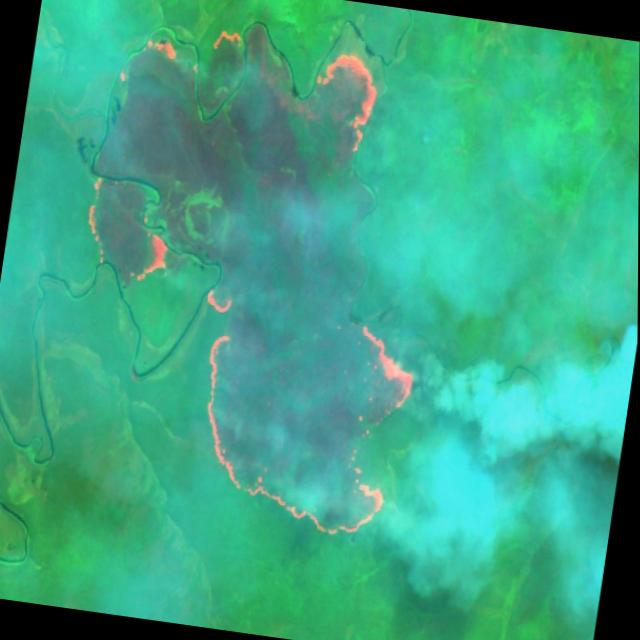fire: (41, 9, 464, 548)
